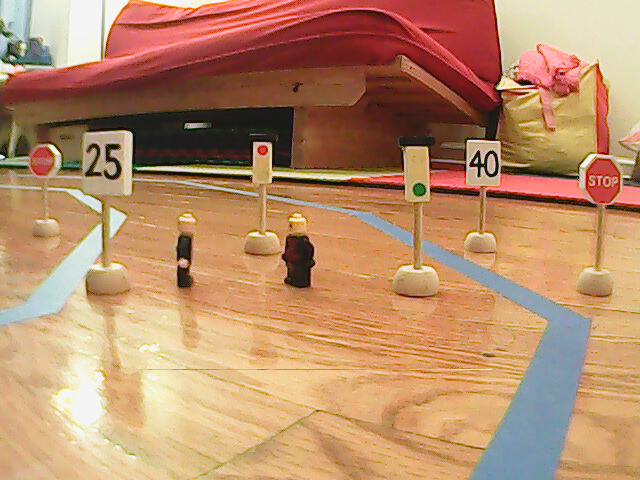Green Traffic Light: (397, 136, 435, 203)
Person: (283, 211, 318, 290), (176, 214, 198, 289)
Red Traffic Light: (247, 133, 275, 187)
Speed Limit 25: (81, 130, 130, 198)
Speed Limit 40: (464, 138, 502, 189)
Stop Sign: (579, 152, 624, 206), (28, 142, 63, 179)
